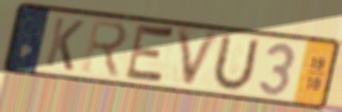3: (257, 40, 298, 98)
E: (122, 21, 178, 88)
K: (42, 14, 87, 73)
R: (80, 17, 130, 81)
U: (208, 32, 262, 94)
V: (174, 25, 224, 92)
